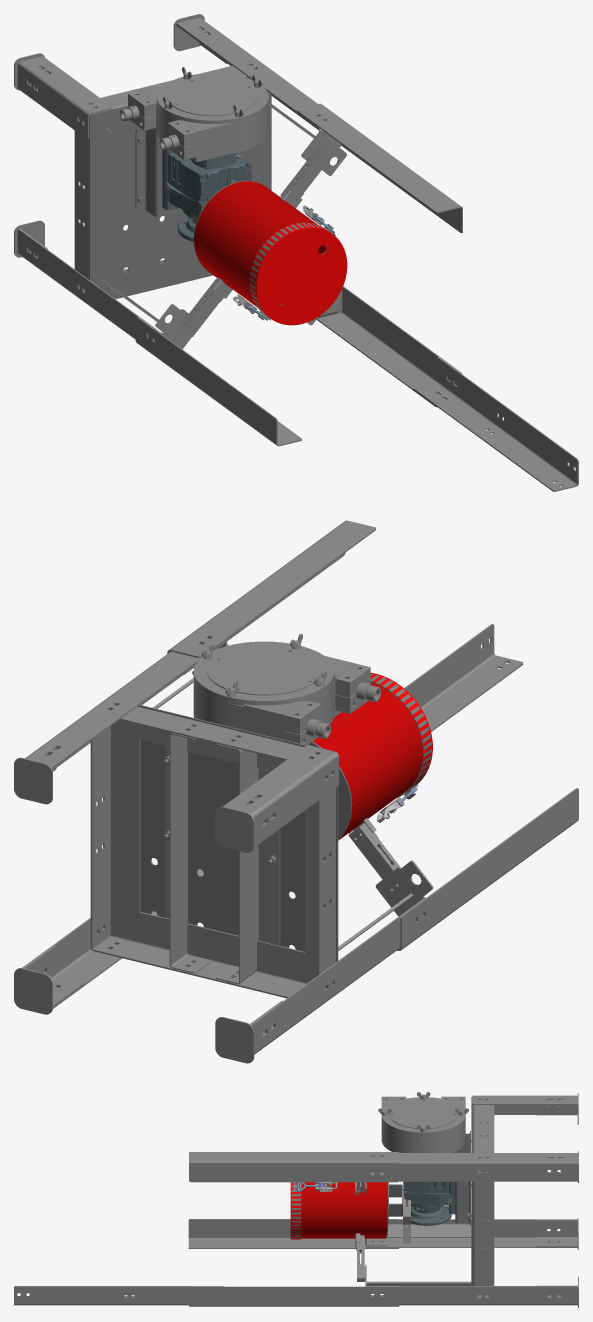
File: дозирующая-емкость-полная.glb
3 renders of one model, top to bottom at view 1: azimuth 30°, elevation 25°; view 2: azimuth 150°, elevation 25°; view 3: azimuth 270°, elevation 25°, orthographic. The views are drawn at different scales.
Visible parts, largest first — view 1: Рама (×12), Емкость дозирования (×3), Крышка (×2), Перистальтический насос (×3), Емкость, Приводная станция (×2); view 2: Рама (×15), Емкость дозирования (×2), Перистальтический насос (×5), Емкость, Сборка фунд (×5), Крышка, =>[0:1:1:39]; view 3: Рама (×13), Емкость (×2), Перистальтический насос (×3), Приводная станция (×2), Сборка фунд (×2), Емкость дозирования (×2), Крышка.
Boxes of the visible parts, x1,y1,x2,y2 form: Рама (×12): (17, 17, 578, 491); Емкость дозирования (×3): (89, 76, 330, 336); Крышка (×2): (249, 222, 347, 325); Перистальтический насос (×3): (140, 73, 268, 162); Емкость: (194, 181, 325, 307); Приводная станция (×2): (135, 127, 251, 241); Рама (×15): (22, 520, 578, 1054); Емкость дозирования (×2): (138, 705, 400, 961); Перистальтический насос (×5): (193, 641, 370, 739); Емкость: (313, 682, 422, 840); Сборка фунд (×5): (14, 757, 254, 1063); Крышка: (370, 673, 431, 797); =>[0:1:1:39]: (309, 741, 352, 839); Рама (×13): (14, 1095, 577, 1306); Емкость (×2): (301, 1182, 402, 1238); Перистальтический насос (×3): (381, 1097, 465, 1152); Приводная станция (×2): (402, 1131, 470, 1225); Сборка фунд (×2): (535, 1099, 577, 1247); Емкость дозирования (×2): (357, 1097, 472, 1285); Крышка: (291, 1182, 301, 1239).
Size of the model in its own units: 0.4702 by 0.5248 by 1.61.
